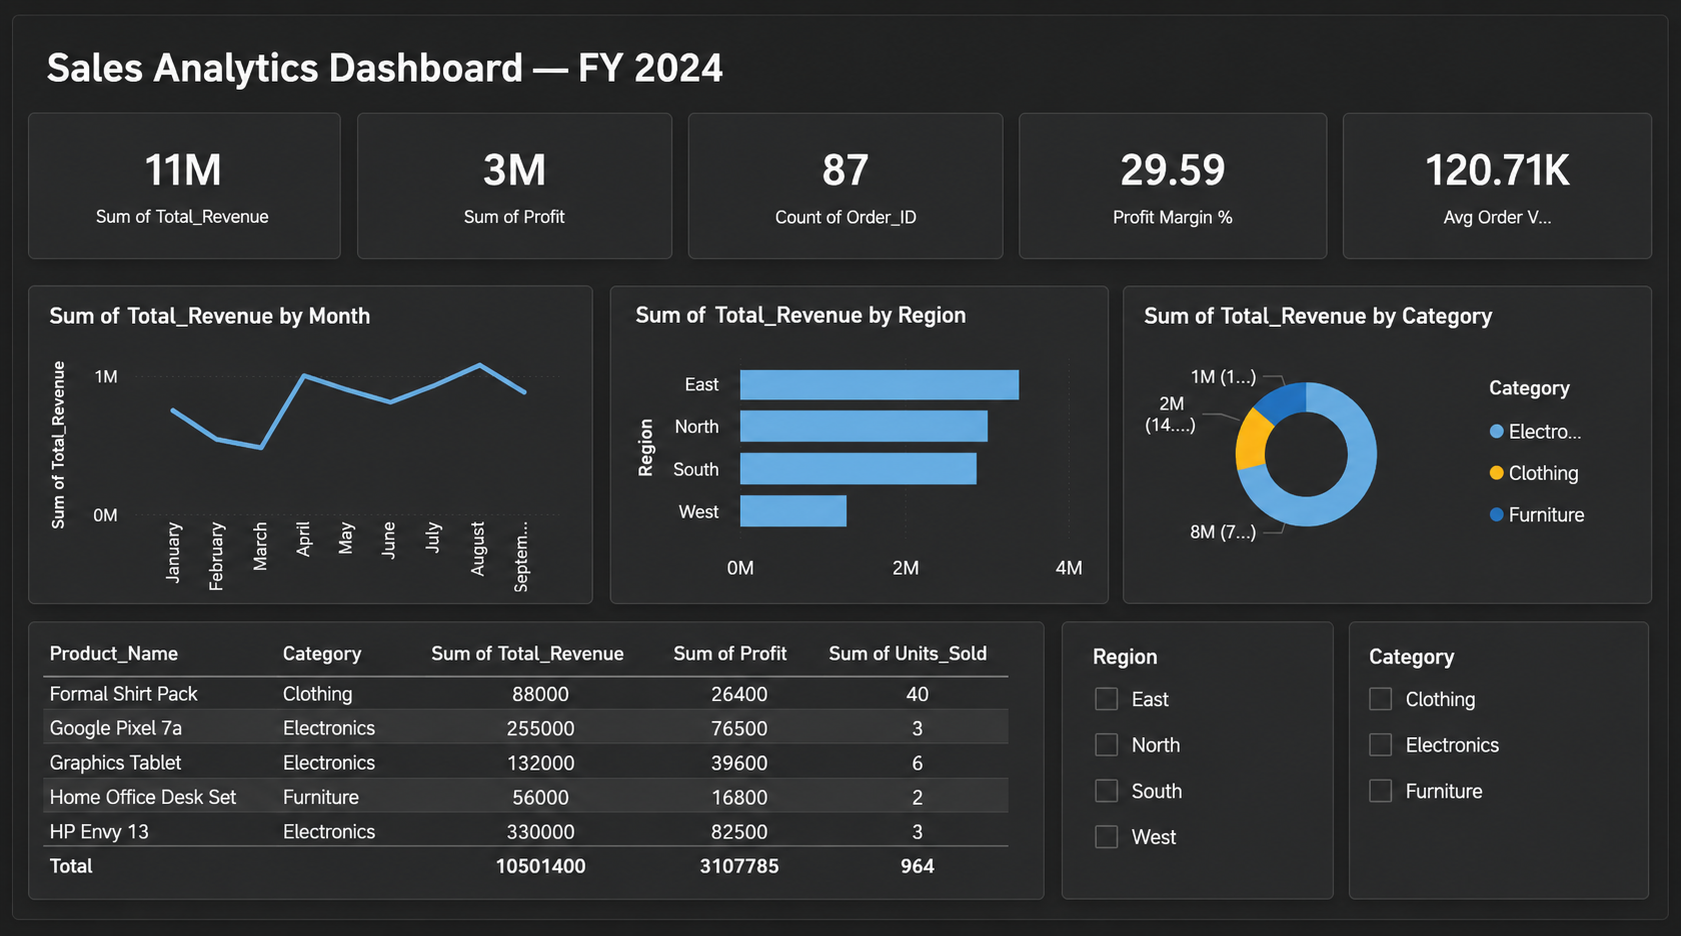

What the dashboard file says about the page in this screenshot:
{"tool":"powerbi","page":{"name":"Page 1","canvas":[1280,720],"ordinal":0},"visuals":[{"type":"cardVisual","fields":{"Data":["Sum(sales_data.Total_Revenue)"]},"box":[9.4,43.5,279.7,279.7],"z":0},{"type":"cardVisual","fields":{"Data":["Sum(sales_data.Profit)"]},"box":[325,103.9,279.7,281.6],"z":1},{"type":"cardVisual","fields":{"Data":["CountNonNull(sales_data.Order_ID)"]},"box":[599.1,77.5,279.7,281.6],"z":2},{"type":"lineChart","fields":{"Category":["sales_data.Order_Date.Variation.Date Hierarchy.Month"],"Y":["Sum(sales_data.Total_Revenue)"]},"box":[9.4,323.2,279.7,281.6],"z":3},{"type":"clusteredBarChart","fields":{"Y":["Sum(sales_data.Total_Revenue)"],"Category":["sales_data.Region"]},"box":[360.9,372.3,279.7,183.3],"z":4},{"type":"donutChart","fields":{"Category":["sales_data.Category"],"Y":["Sum(sales_data.Total_Revenue)"]},"box":[723.8,372.3,279.7,149.3],"z":5},{"type":"tableEx","fields":{"Values":["sales_data.Product_Name","sales_data.Category","Sum(sales_data.Total_Revenue)","Sum(sales_data.Profit)","Sum(sales_data.Units_Sold)"]},"box":[9.4,570.7,631.2,149.3],"z":6},{"type":"slicer","fields":{"Values":["sales_data.Region"]},"box":[640,570,199,150],"z":7},{"type":"slicer","fields":{"Values":["sales_data.Category"]},"box":[890,570,280,150],"z":8},{"type":"textbox","box":[177.6,0,421.4,149.3],"z":9},{"type":"cardVisual","fields":{"Data":["sales_data.Profit Margin %"]},"box":[780.5,56.7,279.7,281.6],"z":10},{"type":"cardVisual","fields":{"Data":["sales_data.Avg Order Value"]},"box":[1029.9,143.6,166.3,151.2],"z":11}]}

Visuals, with their boxes in screenshot pixels (x1, y1, x2, y2), scaled from the page's 1280x720 canvas onto the 1681x936 screenshot:
cardVisual - Sum(sales_data.Total_Revenue): detection(12, 57, 380, 420)
cardVisual - Sum(sales_data.Profit): detection(427, 135, 794, 501)
cardVisual - CountNonNull(sales_data.Order_ID): detection(787, 101, 1154, 467)
lineChart - sales_data.Order_Date.Variation.Date Hierarchy.Month x Sum(sales_data.Total_Revenue): detection(12, 420, 380, 786)
clusteredBarChart - Sum(sales_data.Total_Revenue) x sales_data.Region: detection(474, 484, 841, 722)
donutChart - sales_data.Category x Sum(sales_data.Total_Revenue): detection(951, 484, 1318, 678)
tableEx - sales_data.Product_Name x sales_data.Category: detection(12, 742, 841, 935)
slicer - sales_data.Region: detection(840, 741, 1102, 935)
slicer - sales_data.Category: detection(1169, 741, 1537, 935)
textbox: detection(233, 0, 787, 194)
cardVisual - sales_data.Profit Margin %: detection(1025, 74, 1392, 440)
cardVisual - sales_data.Avg Order Value: detection(1353, 187, 1571, 383)
